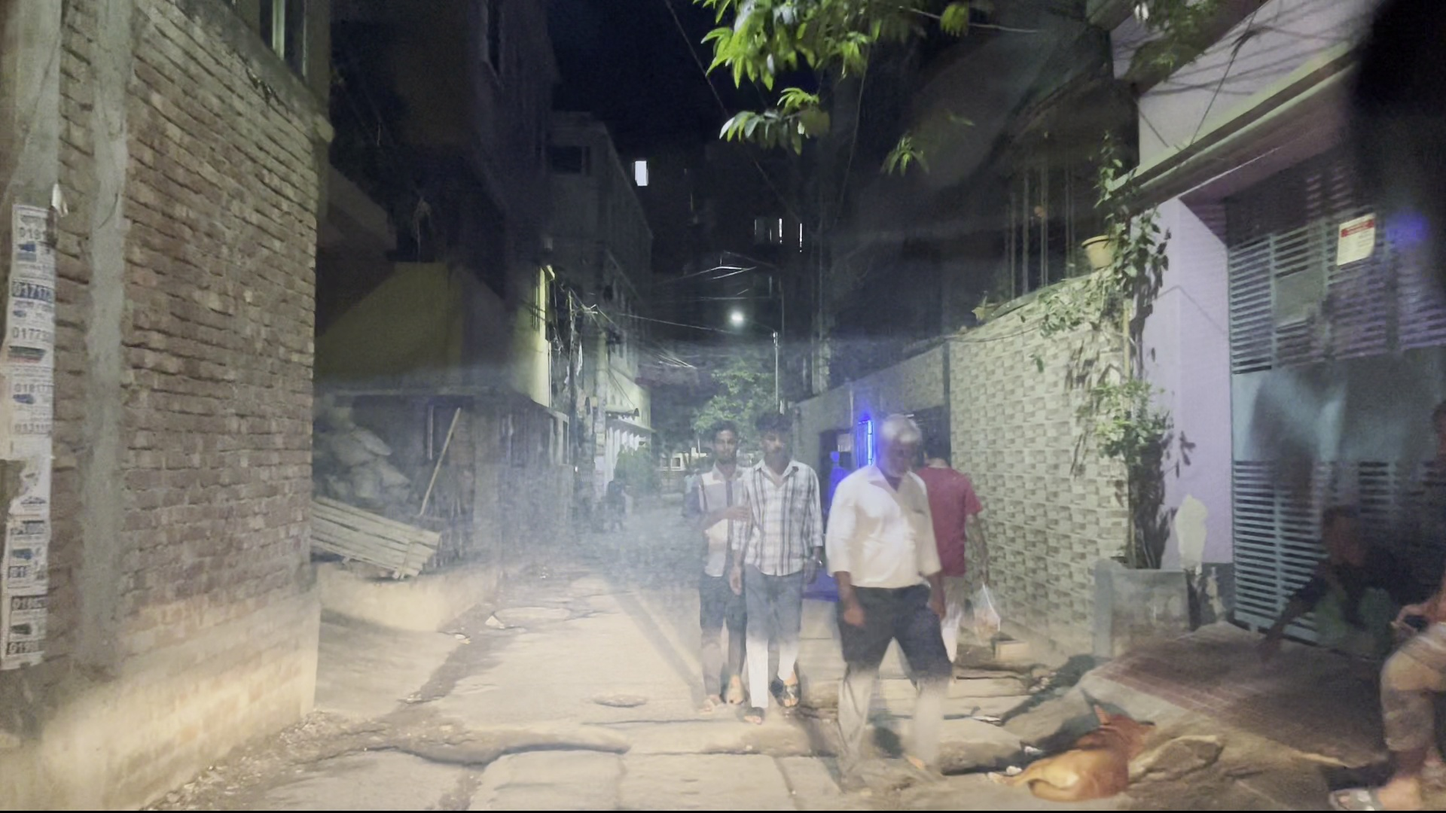person: (818, 406, 966, 715), (690, 430, 801, 708), (744, 410, 828, 723), (917, 433, 990, 654)
